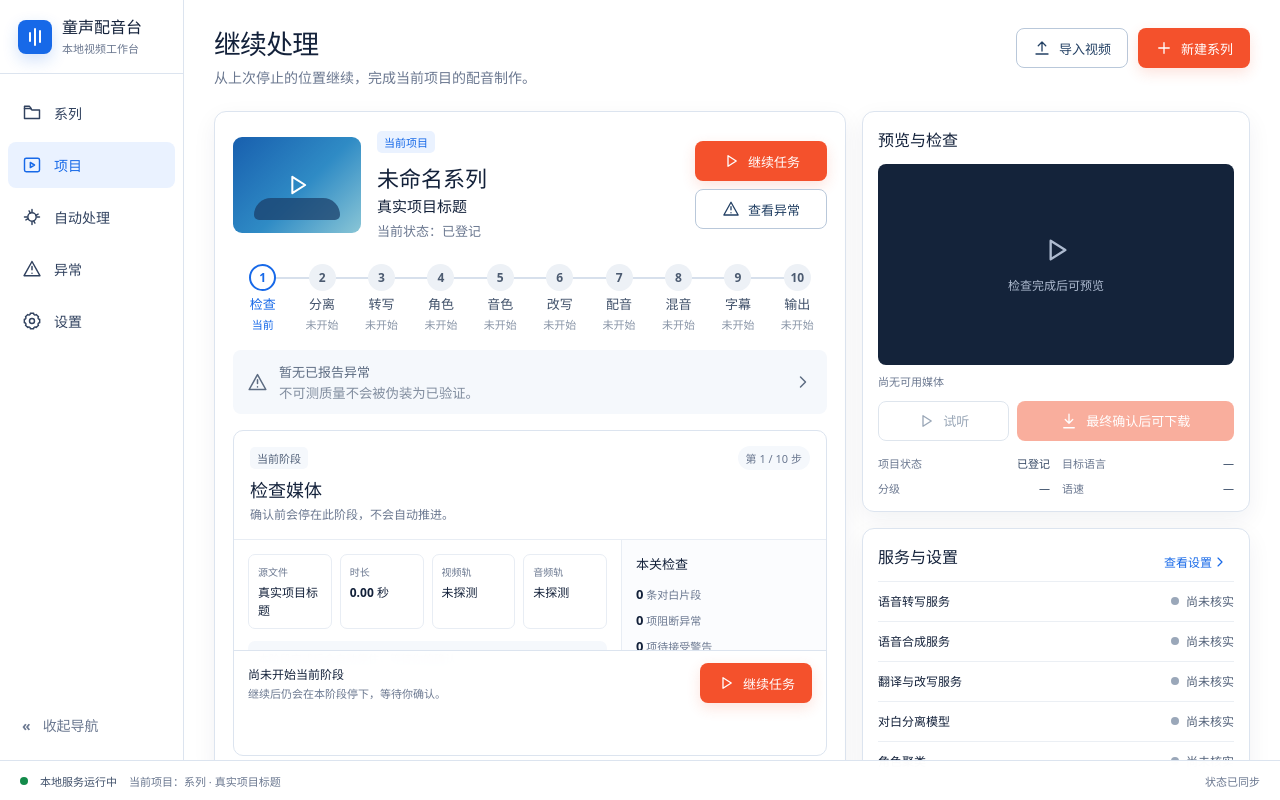
Test: independent health and data loading › shows a real project while the health check is pending
Expected: the heading "真实项目标题" is shown, [377,196,467,216]
Expected: the text "本地服务运行中" is shown, [40,772,117,788]
Click the button "设置" at (92, 321), box [8,298,175,344]
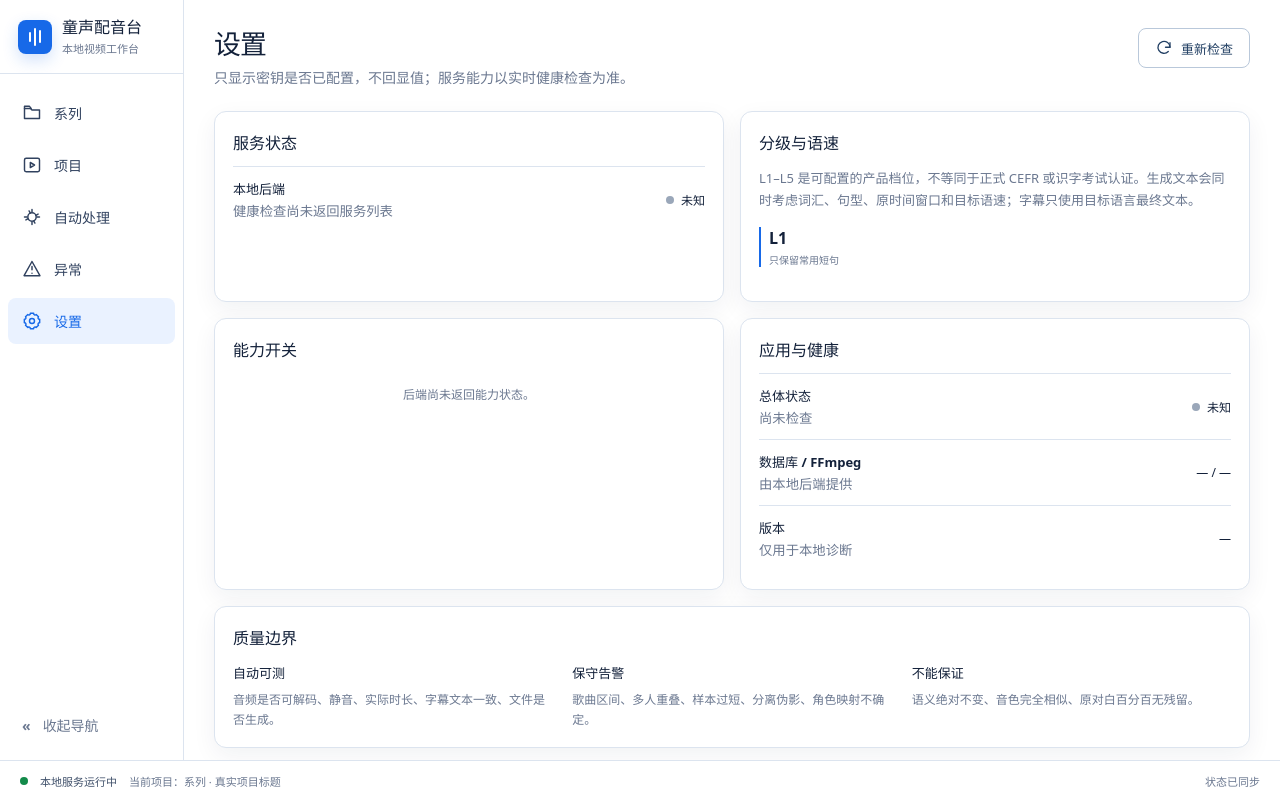
Expected: the text "本地服务运行中" is shown, [40,772,117,788]
Now the text "只保留常用短句" is shown, box [769,252,849,267]
Now the text "未知" is shown, box [666,191,705,209]
